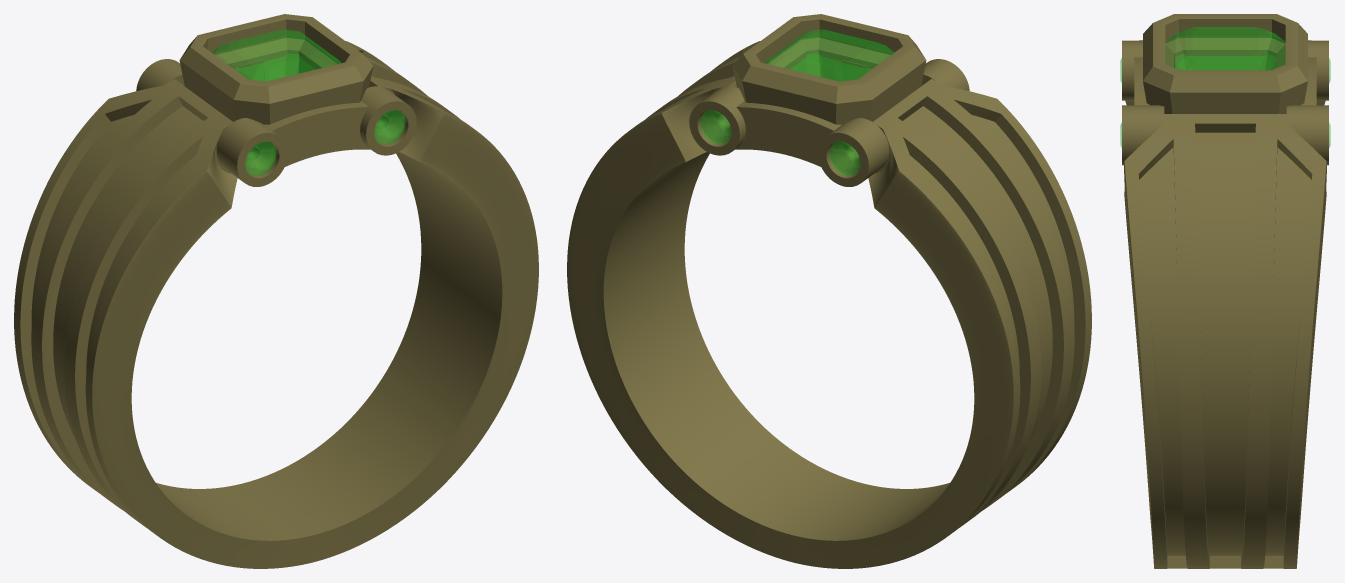
Rendered from ring3ring5.glb.
3 views of the same model, side by side, from view 1: azimuth 30°, elevation 25°; view 2: azimuth 150°, elevation 25°; view 3: azimuth 270°, elevation 25° (orthographic). The views are drawn at different scales.
Parts seen in each view (by area): view 1: Object22, Object11; view 2: Object22, Object11; view 3: Object22, Object11.
Part boxes in pixels (box(x1,y1,x2,y2)): Object22: box(14, 14, 538, 568); Object11: box(211, 29, 405, 175); Object22: box(567, 14, 1091, 568); Object11: box(700, 29, 894, 175); Object22: box(1122, 14, 1328, 568); Object11: box(1120, 27, 1330, 147).
Size of the model in its own units: 2.33 by 2.44 by 0.9271.
